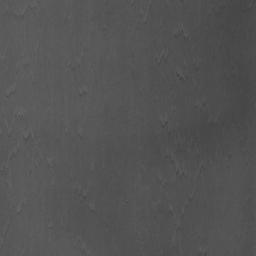Silk spot: (3, 6, 37, 19), (152, 55, 169, 66), (23, 133, 37, 144), (176, 72, 188, 83)
